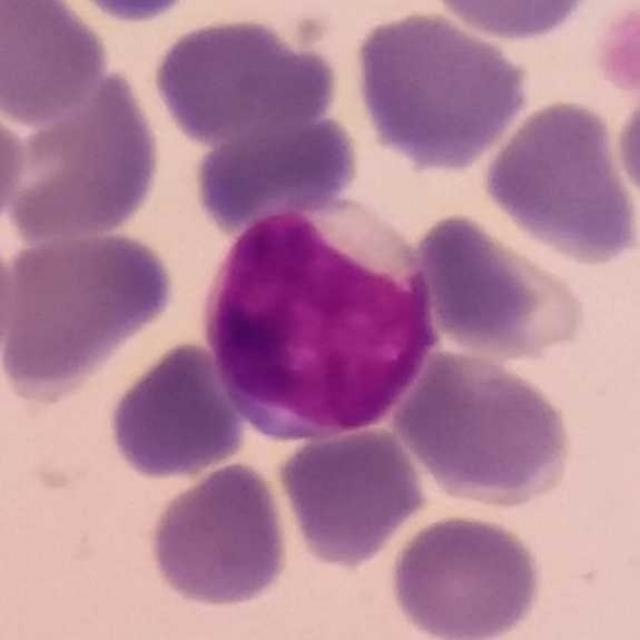Lymphocyte: (200, 192, 444, 444)
RBC: (0, 234, 179, 413), (348, 5, 534, 174), (390, 344, 578, 510), (0, 59, 165, 245), (408, 207, 590, 364), (478, 95, 639, 268), (148, 12, 338, 146), (275, 419, 430, 570), (143, 459, 294, 612), (188, 109, 364, 233), (104, 336, 250, 482), (385, 510, 548, 640), (0, 0, 110, 126), (420, 0, 604, 43), (587, 1, 640, 102), (0, 85, 29, 242), (612, 73, 640, 226), (88, 0, 199, 28)
